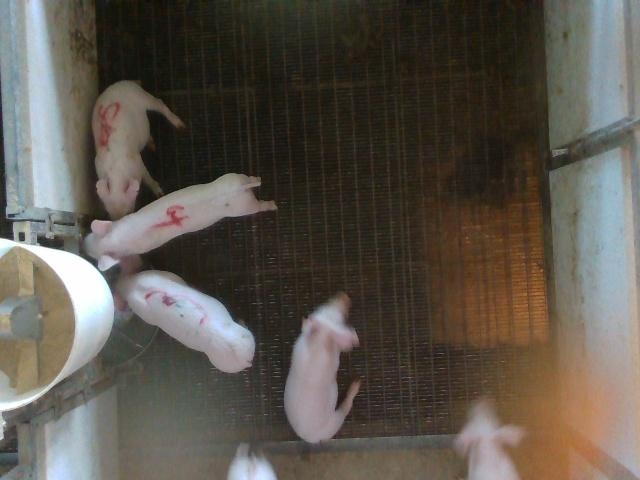pig-3: (114, 255, 255, 372)
pig-4: (85, 174, 276, 271)
pig-5: (92, 81, 184, 219)
